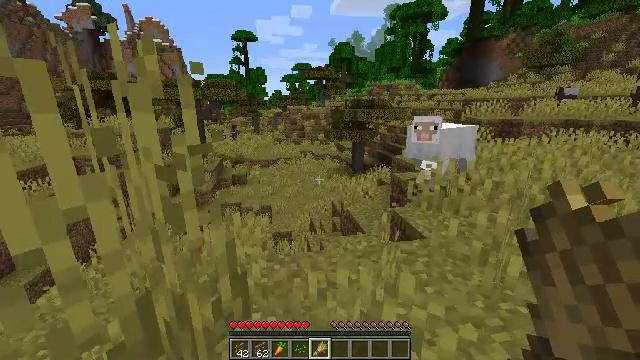cow: (554, 86, 580, 106)
sheep: (405, 117, 476, 168)
